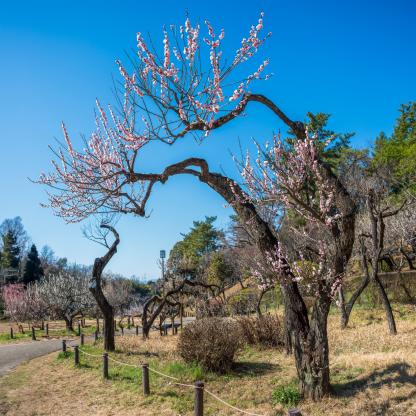Ume: (22, 1, 388, 312), (0, 268, 144, 320)
